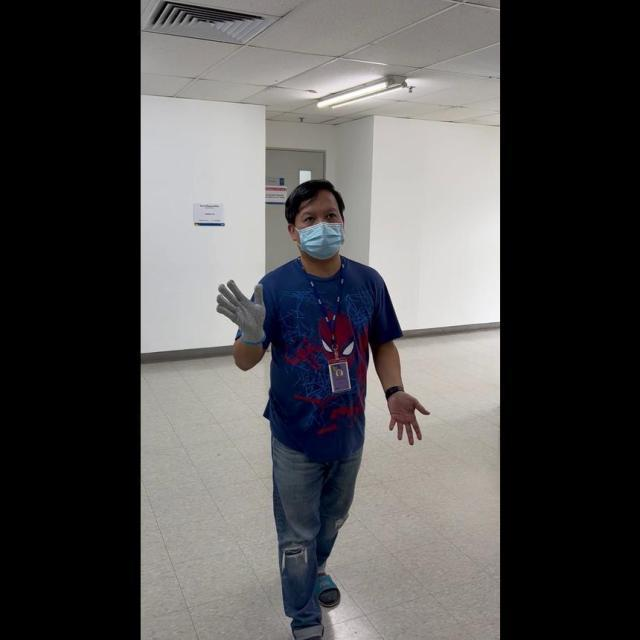bare_hand: (383, 388, 427, 444)
gloved_hand: (214, 272, 268, 345)
